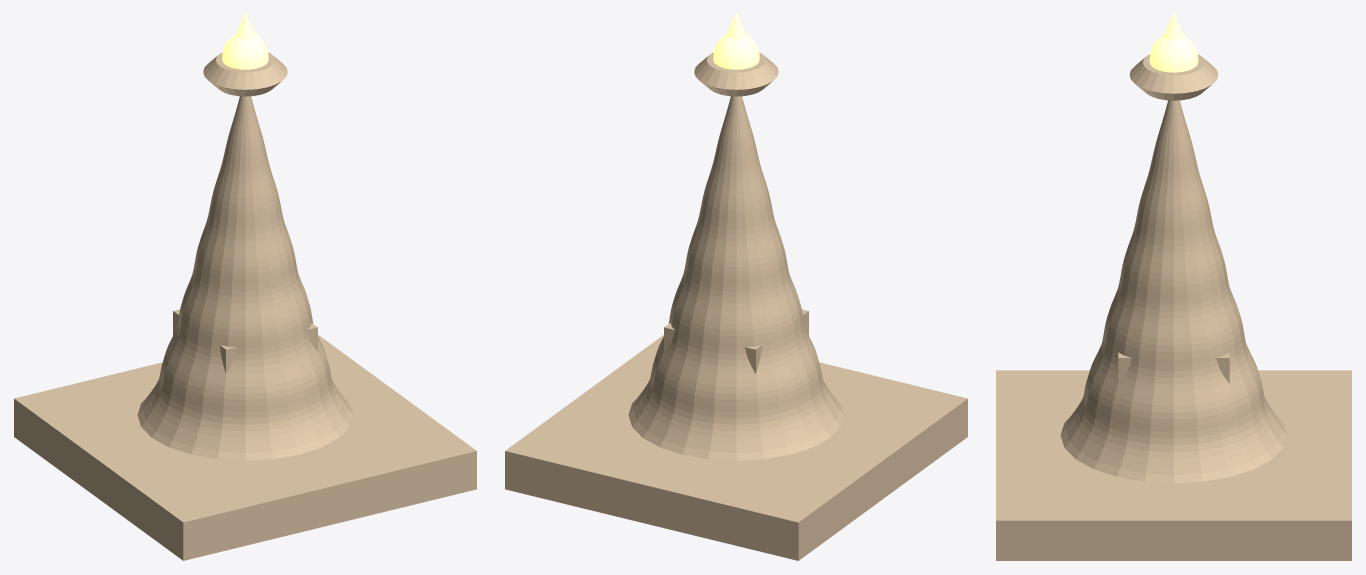
File: nagara_s4.glb
The picture shows the model from 3 angles, left to right: view 1: azimuth 30°, elevation 25°; view 2: azimuth 150°, elevation 25°; view 3: azimuth 270°, elevation 25°; orthographic projection. The views are drawn at different scales.
Visible parts, largest first — view 1: nagara; view 2: nagara; view 3: nagara.
Part boxes in pixels (x1=…): nagara: x1=14, y1=14, x2=476, y2=560; nagara: x1=505, y1=14, x2=967, y2=560; nagara: x1=996, y1=14, x2=1351, y2=560.
Size of the model in its own units: 6.84 by 10 by 6.84.
